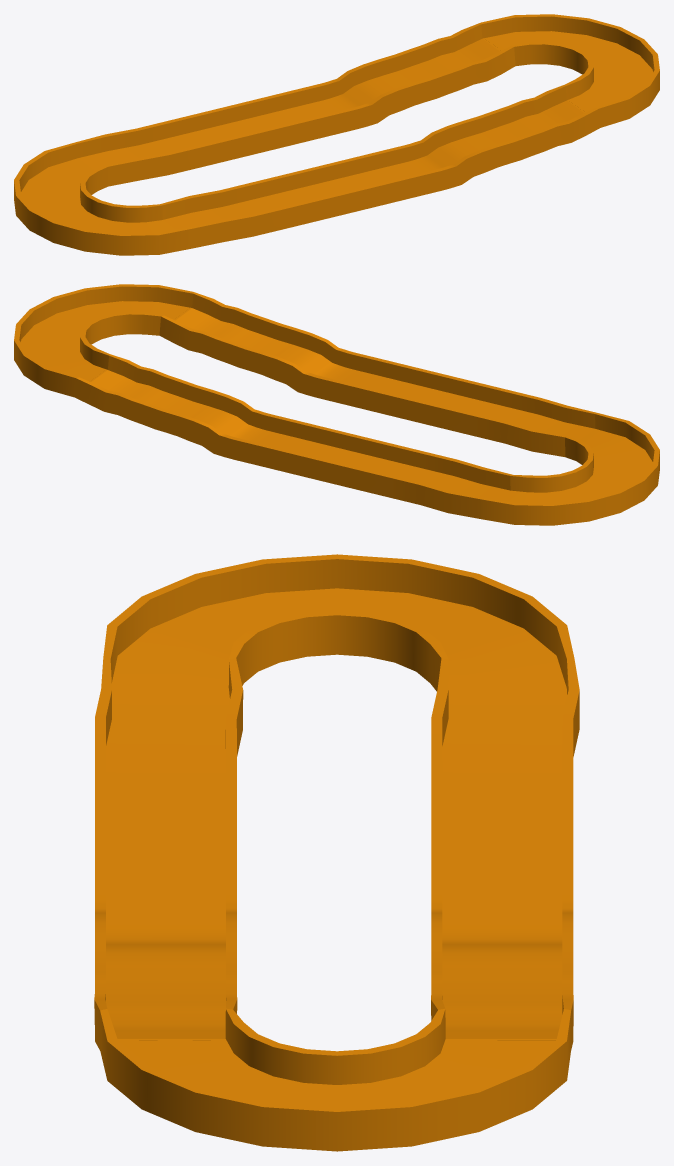
File: elevation_test.fbx
3 views of the same model, one above another, from view 1: azimuth 30°, elevation 25°; view 2: azimuth 150°, elevation 25°; view 3: azimuth 270°, elevation 25° (orthographic). The views are drawn at different scales.
Parts seen in each view (by area): view 1: pCube3; view 2: pCube3; view 3: pCube3.
Boxes of the visible parts, box(x1,y1,x2,y2) form: pCube3: box(14, 14, 659, 255); pCube3: box(14, 284, 659, 525); pCube3: box(94, 554, 579, 1151).
Size of the model in its own units: 562 by 37.36 by 192.
